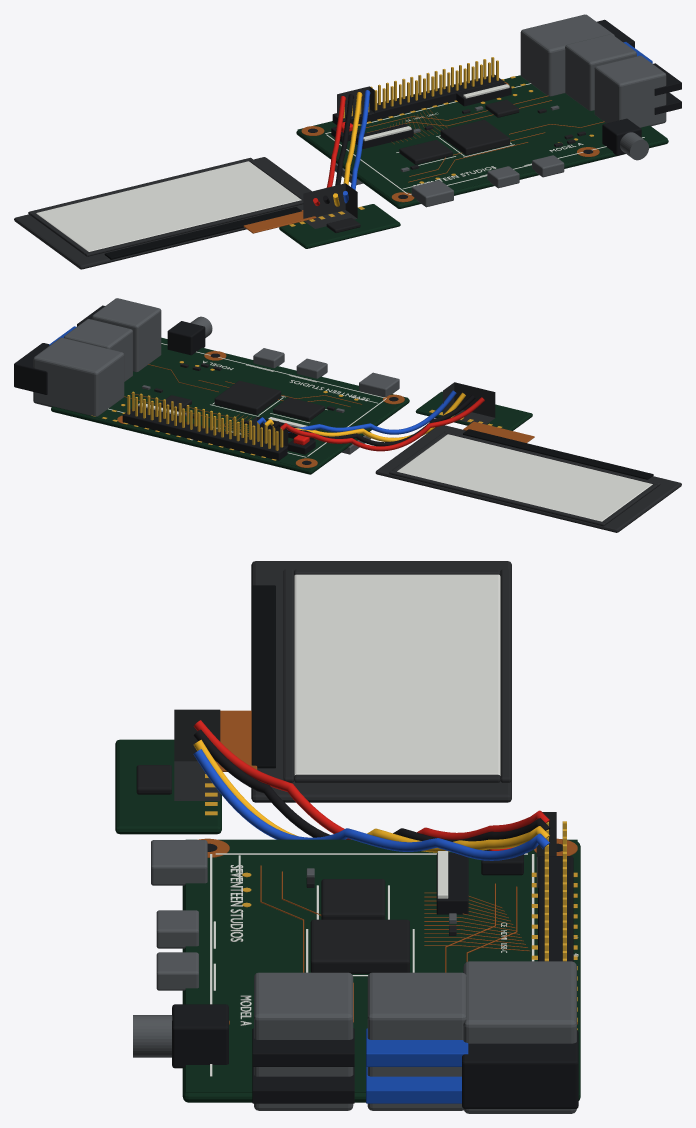
Rendered from raspberry-pi-eink-assembly.glb.
3 views of the same model, one above another, from view 1: azimuth 30°, elevation 25°; view 2: azimuth 150°, elevation 25°; view 3: azimuth 270°, elevation 25° (orthographic). The views are drawn at different scales.
Visible parts, largest first — view 1: PCB_Top_Soldermask, EInk_Paper_Panel, Dual_USB2_Stack, Gigabit_Ethernet_RJ45, Dual_USB3_Stack, EInk_Display_Backplate, EInk_SPI_Controller_PCB, GPIO_40_Pin_Header_Base, EInk_SPI_Plug, CPU_Broadcom_BCM2711, EInk_Panel_Driver_Strip, PCB_RaspberryPi4_ModelB_85x56mm (+17 smaller); view 2: PCB_Top_Soldermask, EInk_Paper_Panel, Gigabit_Ethernet_RJ45, EInk_Display_Backplate, Dual_USB2_Stack, GPIO_40_Pin_Header_Base, PCB_RaspberryPi4_ModelB_85x56mm, Dual_USB3_Stack, CPU_Broadcom_BCM2711, EInk_Panel_Driver_Strip, EInk_SPI_Plug, SPI_Wire_1_3V3 (+14 smaller); view 3: EInk_Paper_Panel, PCB_Top_Soldermask, Gigabit_Ethernet_RJ45, EInk_Display_Backplate, Dual_USB2_Stack, Dual_USB3_Stack, RJ45_Cavity, EInk_SPI_Controller_PCB, CPU_Broadcom_BCM2711, EInk_Panel_Driver_Strip, SPI_Wire_4_MOSI, TRRS_Audio_Video_Jack (+22 smaller).
Part boxes in pixels (x1,y1,x2,y2): PCB_Top_Soldermask: (297, 75, 667, 204); EInk_Paper_Panel: (36, 161, 301, 251); Dual_USB2_Stack: (594, 55, 666, 127); Gigabit_Ethernet_RJ45: (520, 14, 614, 96); Dual_USB3_Stack: (565, 34, 636, 110); EInk_Display_Backplate: (14, 157, 311, 269); EInk_SPI_Controller_PCB: (279, 204, 400, 248); GPIO_40_Pin_Header_Base: (332, 74, 503, 124); EInk_SPI_Plug: (303, 183, 357, 228); CPU_Broadcom_BCM2711: (440, 119, 509, 155); EInk_Panel_Driver_Strip: (104, 207, 301, 259); PCB_RaspberryPi4_ModelB_85x56mm: (296, 130, 668, 208); PCB_Top_Soldermask: (52, 337, 408, 469); EInk_Paper_Panel: (397, 434, 652, 521); Gigabit_Ethernet_RJ45: (33, 337, 124, 416); EInk_Display_Backplate: (375, 425, 681, 532); Dual_USB2_Stack: (92, 298, 161, 372); GPIO_40_Pin_Header_Base: (122, 408, 287, 460); PCB_RaspberryPi4_ModelB_85x56mm: (51, 399, 409, 474); Dual_USB3_Stack: (64, 319, 132, 381); CPU_Broadcom_BCM2711: (214, 380, 281, 414); EInk_Panel_Driver_Strip: (463, 429, 653, 479); EInk_SPI_Plug: (443, 382, 495, 424); SPI_Wire_1_3V3: (280, 397, 484, 451); EInk_Paper_Panel: (294, 574, 500, 775); PCB_Top_Soldermask: (185, 839, 577, 1092); Gigabit_Ethernet_RJ45: (463, 961, 576, 1113); EInk_Display_Backplate: (251, 561, 511, 802); Dual_USB2_Stack: (254, 972, 353, 1110); Dual_USB3_Stack: (367, 972, 466, 1110); RJ45_Cavity: (462, 1030, 578, 1108); EInk_SPI_Controller_PCB: (115, 739, 221, 834); CPU_Broadcom_BCM2711: (310, 919, 409, 973); EInk_Panel_Driver_Strip: (251, 585, 275, 768); SPI_Wire_4_MOSI: (193, 749, 550, 860); TRRS_Audio_Video_Jack: (172, 1004, 228, 1068).
Size of the model in its own units: 0.191 by 0.0194 by 0.0655.
